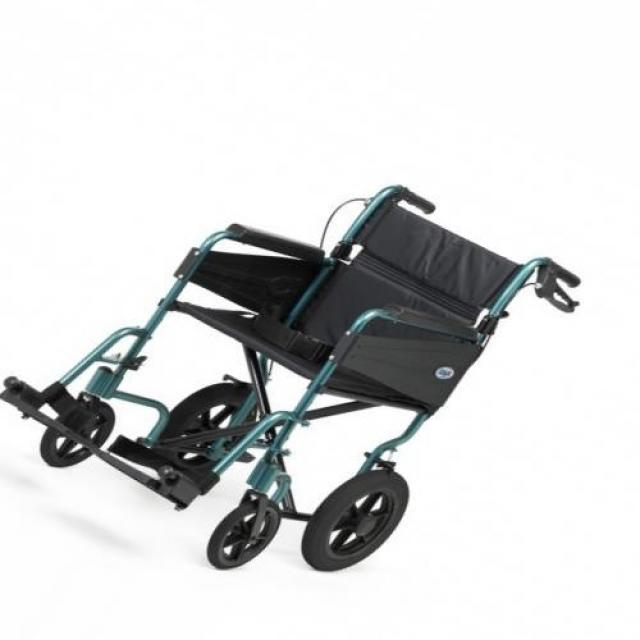wheelchair: (2, 170, 592, 586)
